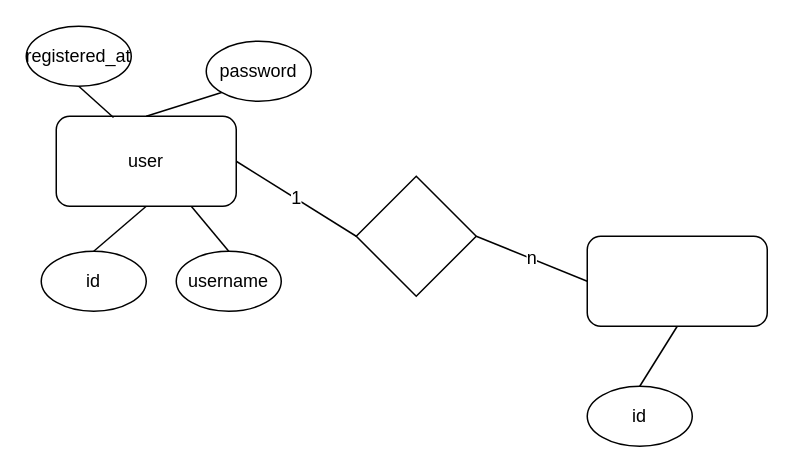
Image size: 794x473. Some labels were removed from this diagram. The shapes that lost their labels are listed below. From the top down, each one's centre as x and y in pixels, then its label:
At pixel 415 235: "erstellt".
At pixel 676 280: "stats".
